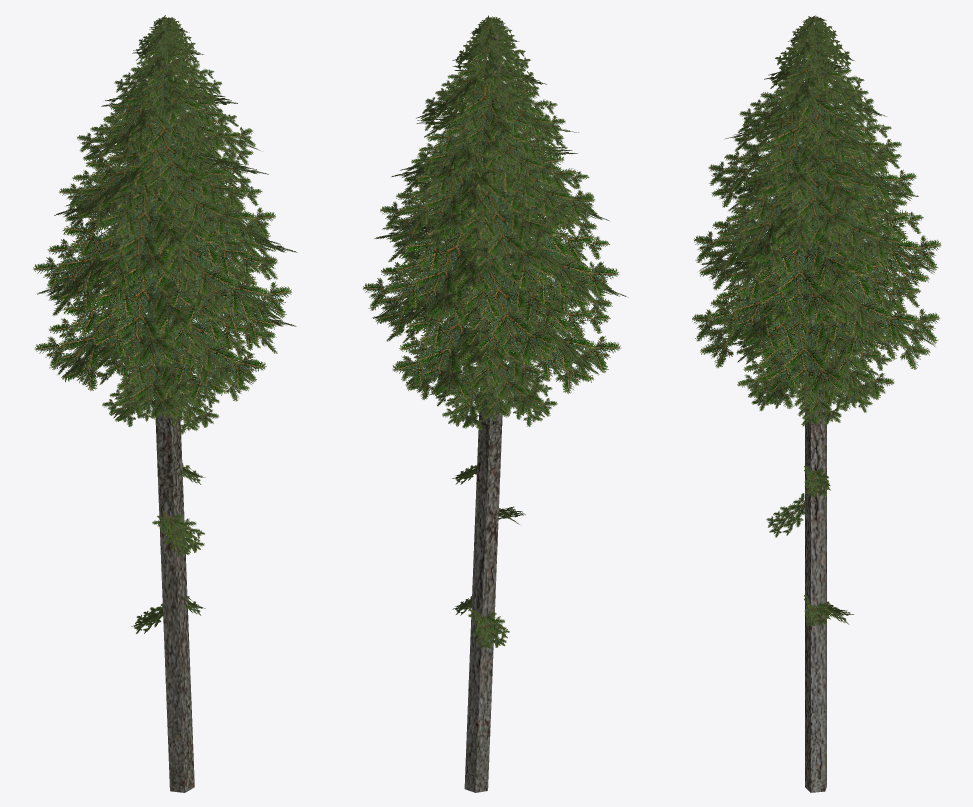
File: abeto_c.glb
The picture shows the model from 3 angles, left to right: view 1: azimuth 30°, elevation 25°; view 2: azimuth 150°, elevation 25°; view 3: azimuth 270°, elevation 25°; orthographic projection.
Parts seen in each view (by area): view 1: Modelo; view 2: Modelo; view 3: Modelo.
Boxes of the visible parts, left/top/right/bottom form: Modelo: left=33, top=15, right=297, bottom=792; Modelo: left=363, top=15, right=628, bottom=792; Modelo: left=692, top=15, right=941, bottom=792.
Size of the model in its own units: 2.65 by 7.82 by 2.62.
Materials: 1 (1 with a texture image).
